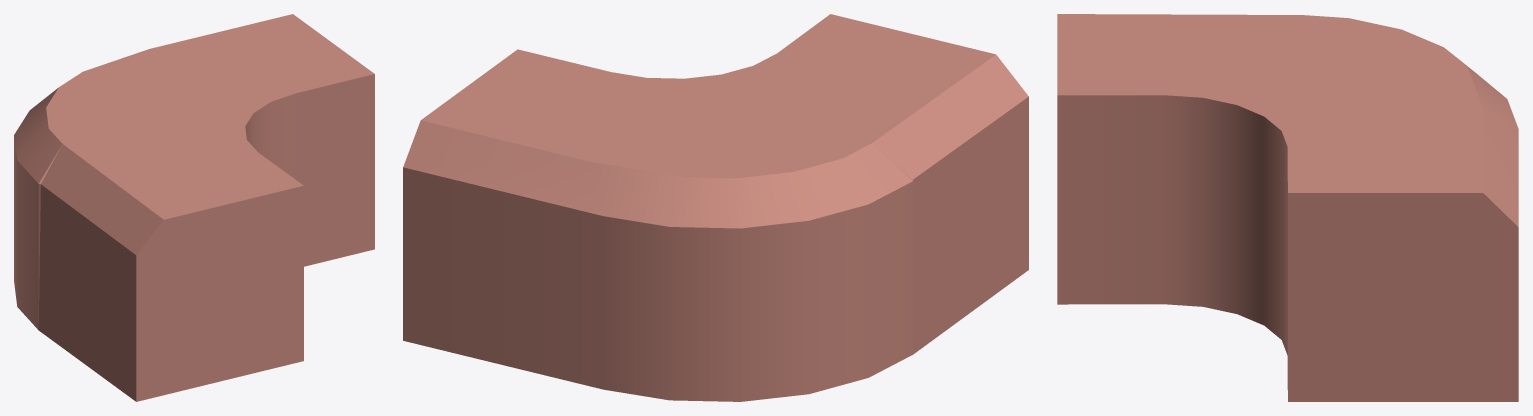
The model's file is TrimBasicWall1x5CornerRounded2.fbx.
3 renders of one model, left to right at view 1: azimuth 30°, elevation 25°; view 2: azimuth 150°, elevation 25°; view 3: azimuth 270°, elevation 25°, orthographic. The views are drawn at different scales.
Parts seen in each view (by area): view 1: TrimBasicWall1x5CornerRounded2.001; view 2: TrimBasicWall1x5CornerRounded2.001; view 3: TrimBasicWall1x5CornerRounded2.001.
Part boxes in pixels (left/top/right/bottom): TrimBasicWall1x5CornerRounded2.001: left=14, top=14, right=374, bottom=401; TrimBasicWall1x5CornerRounded2.001: left=403, top=14, right=1028, bottom=401; TrimBasicWall1x5CornerRounded2.001: left=1057, top=14, right=1518, bottom=401.
Size of the model in its own units: 200 by 100 by 200.
